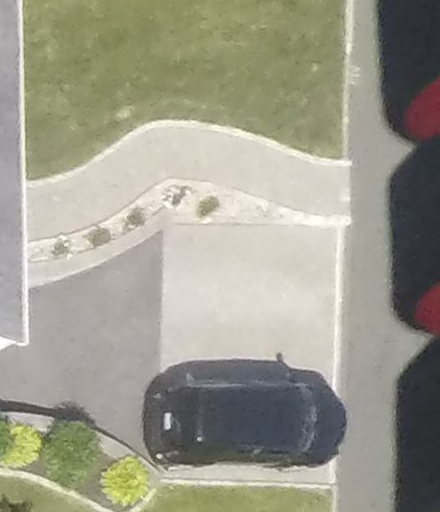car: (138, 360, 360, 479)
driveway: (1, 219, 345, 481)
front yard: (1, 6, 365, 499)
